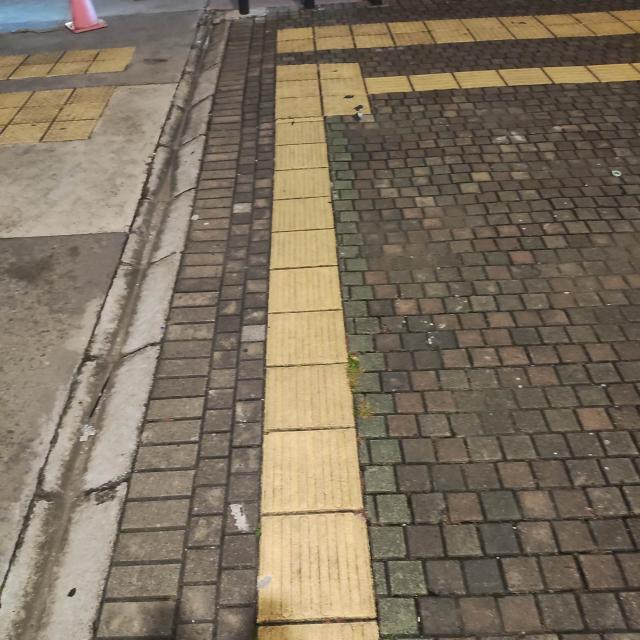kanan: (264, 74, 424, 142)
